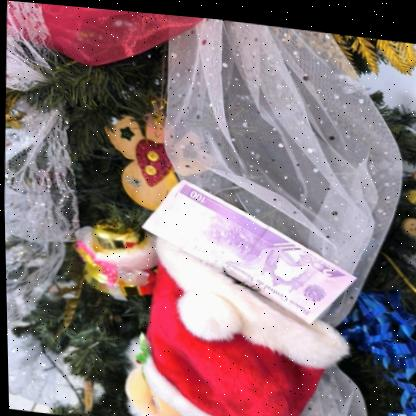one_hundred-back-vef: (137, 171, 358, 324)
